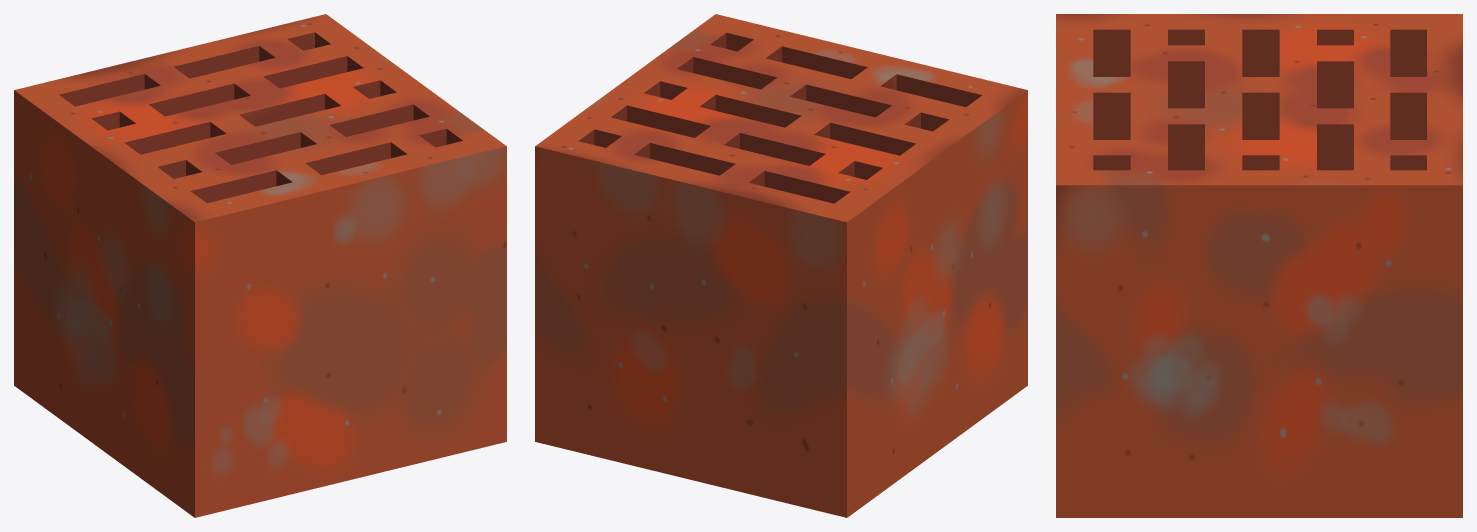
The model's file is Brick.fbx.
3 renders of one model, left to right at view 1: azimuth 30°, elevation 25°; view 2: azimuth 150°, elevation 25°; view 3: azimuth 270°, elevation 25°, orthographic. The views are drawn at different scales.
Visible parts, largest first — view 1: Brick; view 2: Brick; view 3: Brick.
Part boxes in pixels (box(x1,y1,x2,y2)): Brick: box(14, 14, 506, 517); Brick: box(535, 14, 1027, 517); Brick: box(1056, 14, 1462, 517).
Bounding box in the file's own units: 0.9643 × 0.8732 × 0.9676.
